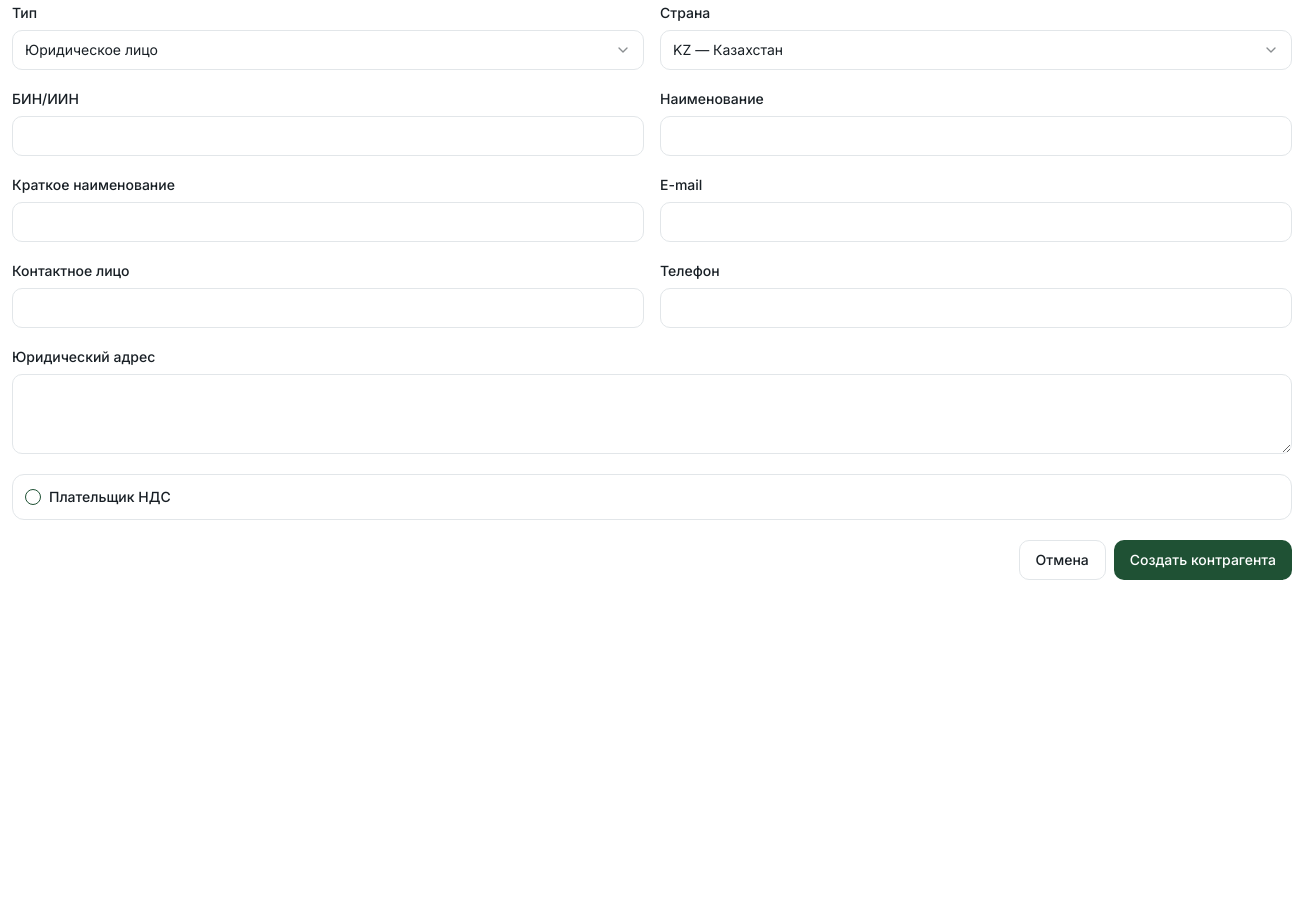
Test case: CounterpartyForm — создание › неверный контрольный разряд БИН — отказ у поля, запроса нет
In the field labelled "Наименование": [976, 136] box [660,116,1292,156], type "ТОО «Альфа»"
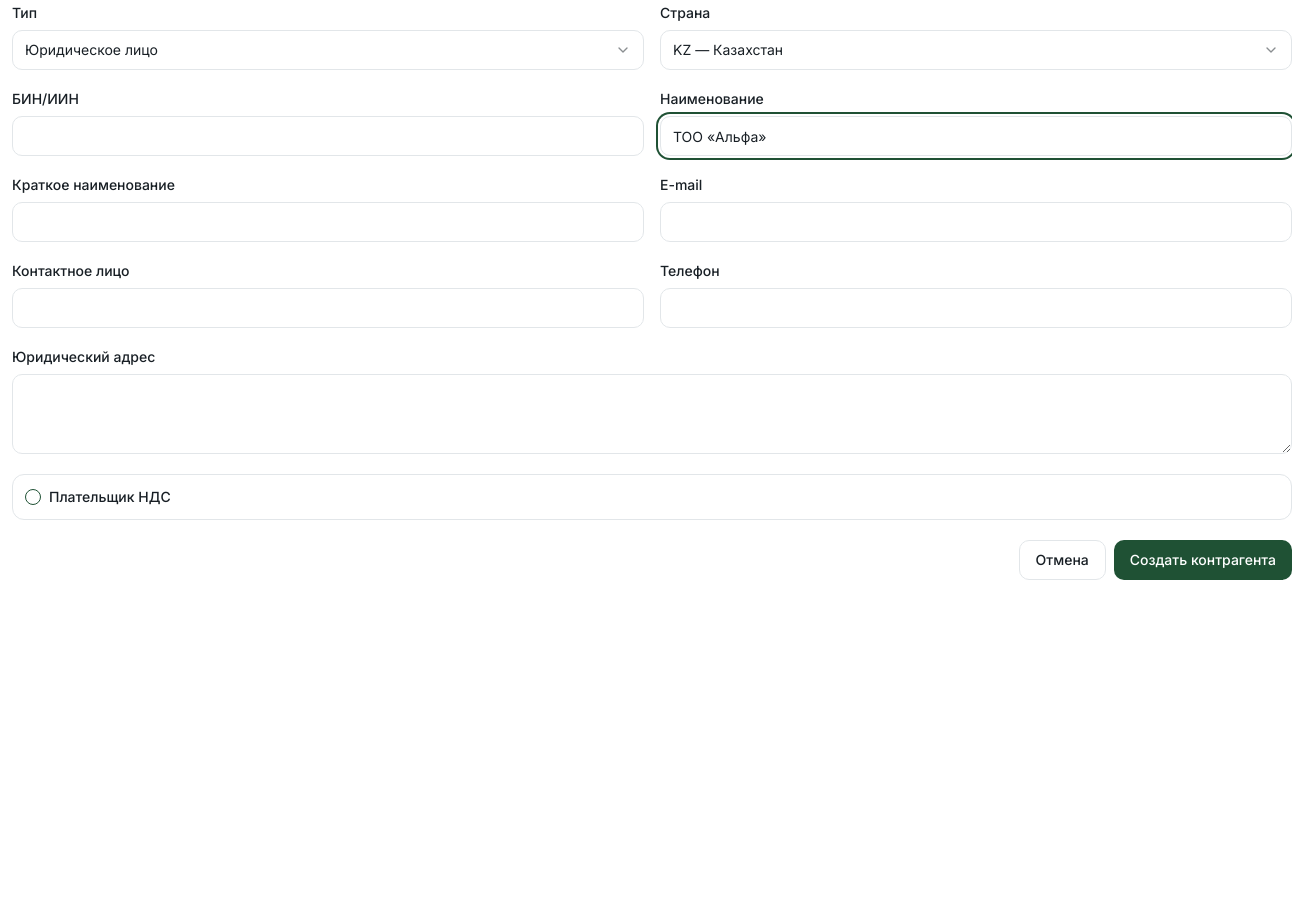
In the field labelled "БИН/ИИН": [328, 136] box [12,116,644,156], type "100000000002"
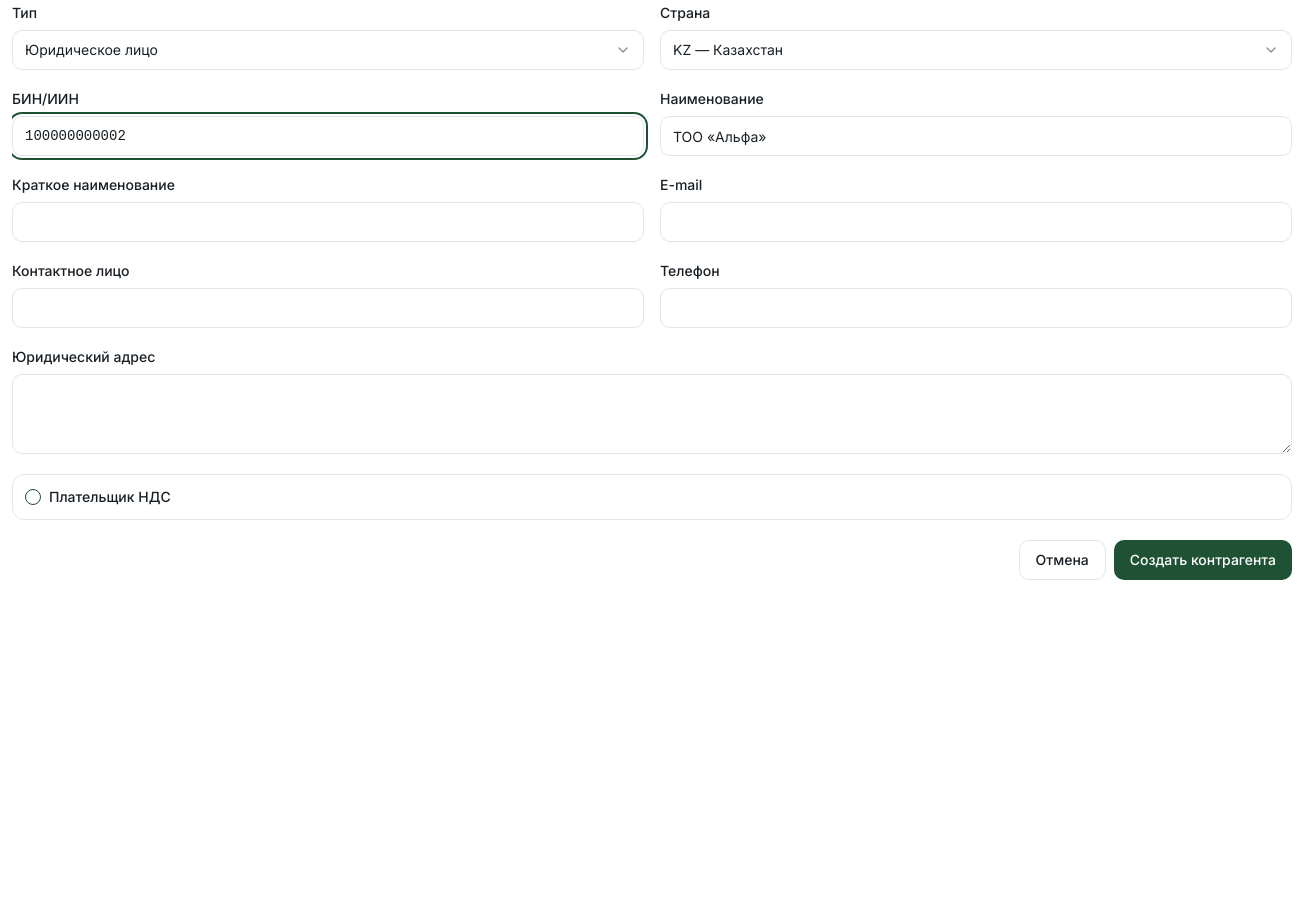
Click the button "Создать контрагента": [1203, 560] box [1114,540,1292,580]
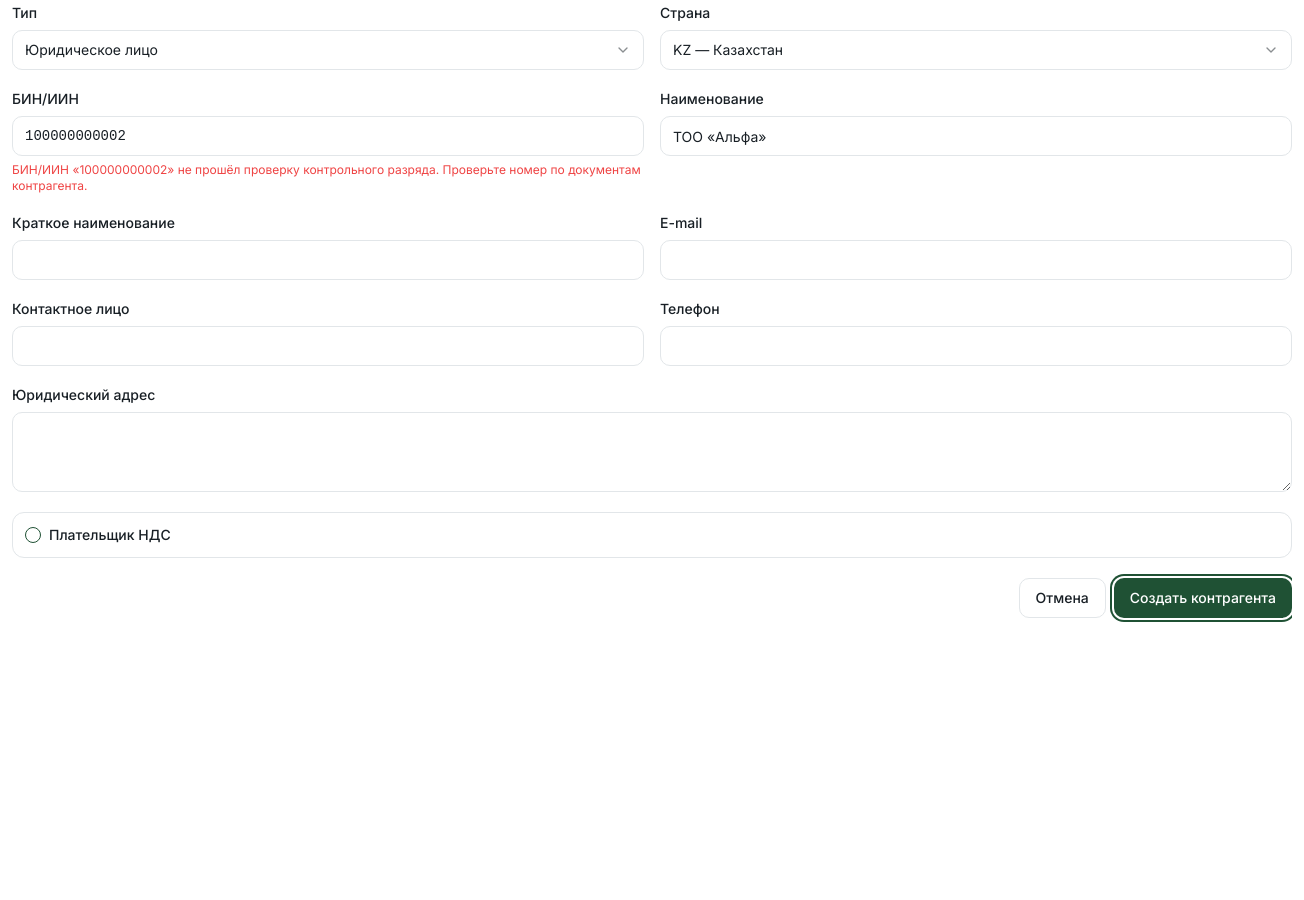
Check: the text "не прошёл проверку контрольного разряда" is shown, box [12,162,641,193]
